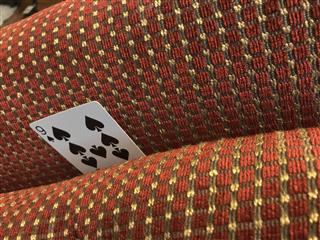NineOfSpades: (27, 99, 146, 175)
